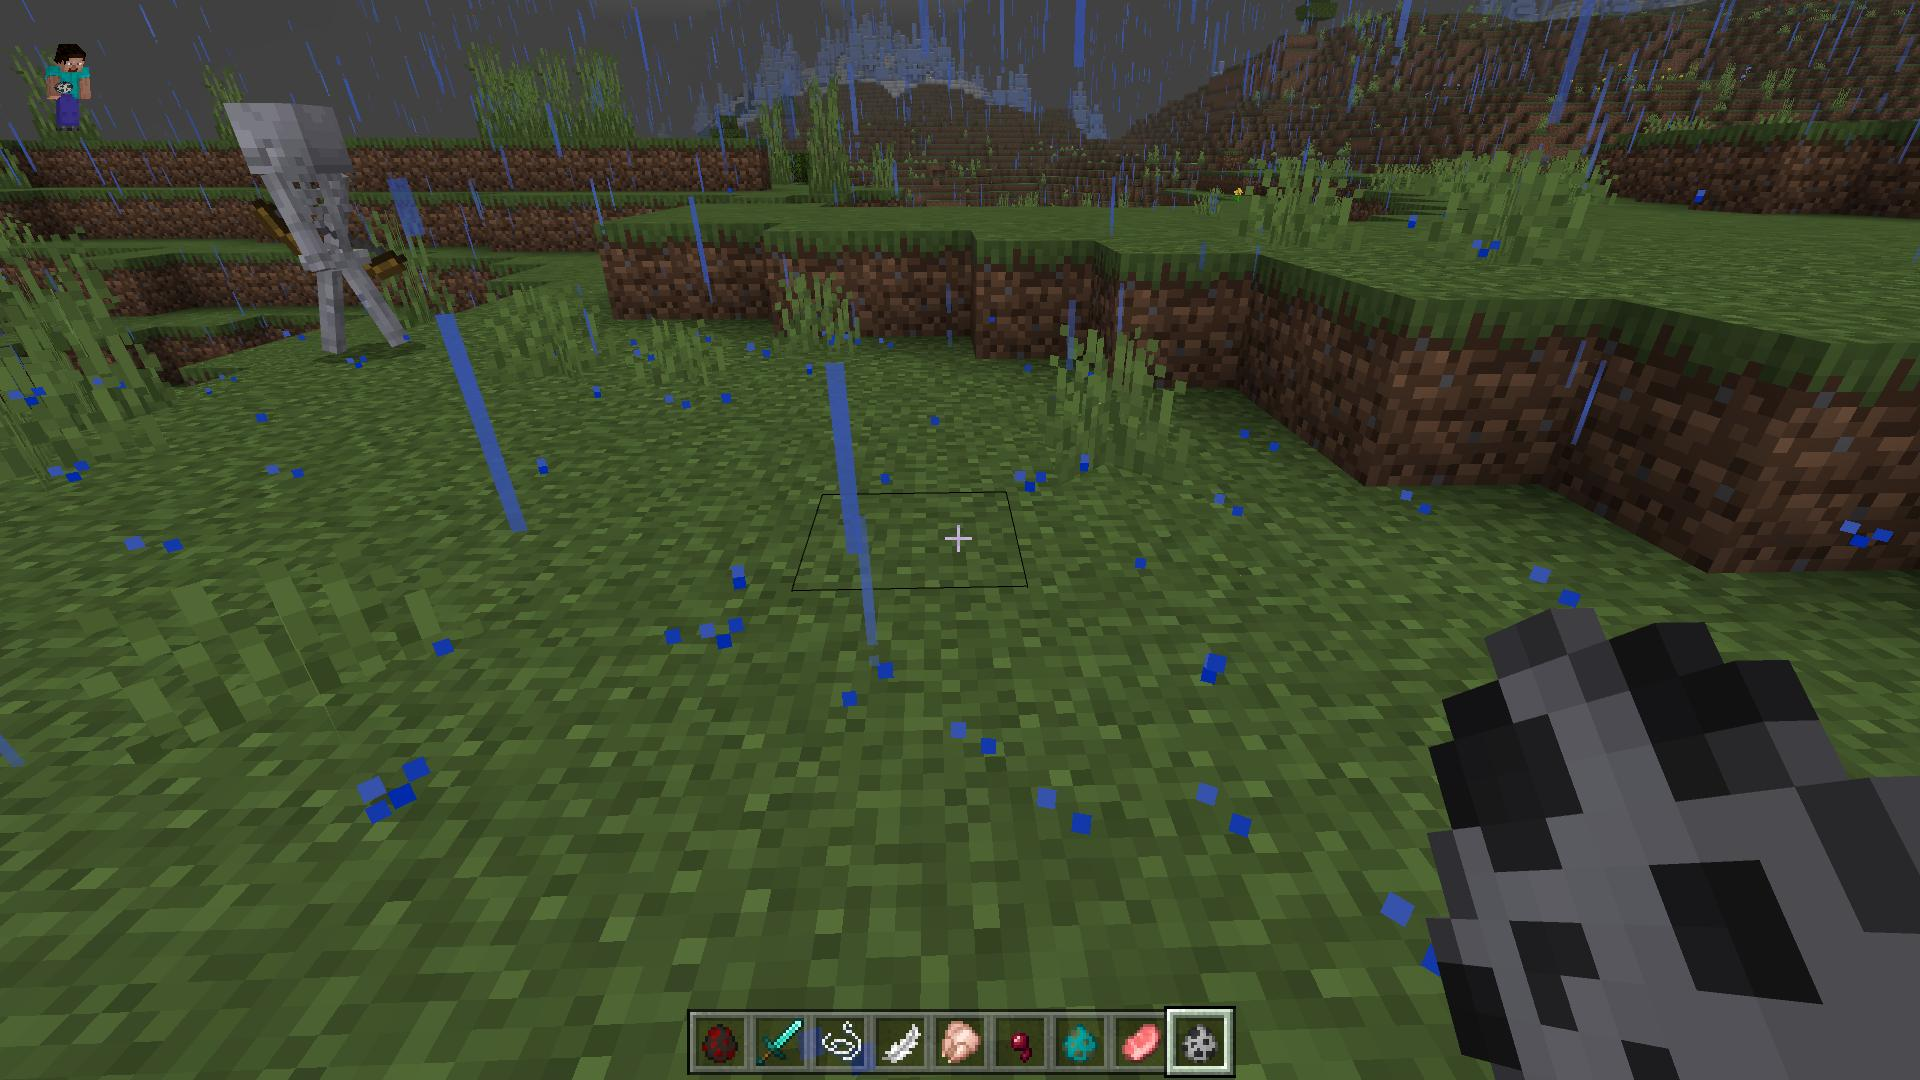skeleton: (222, 96, 415, 364)
